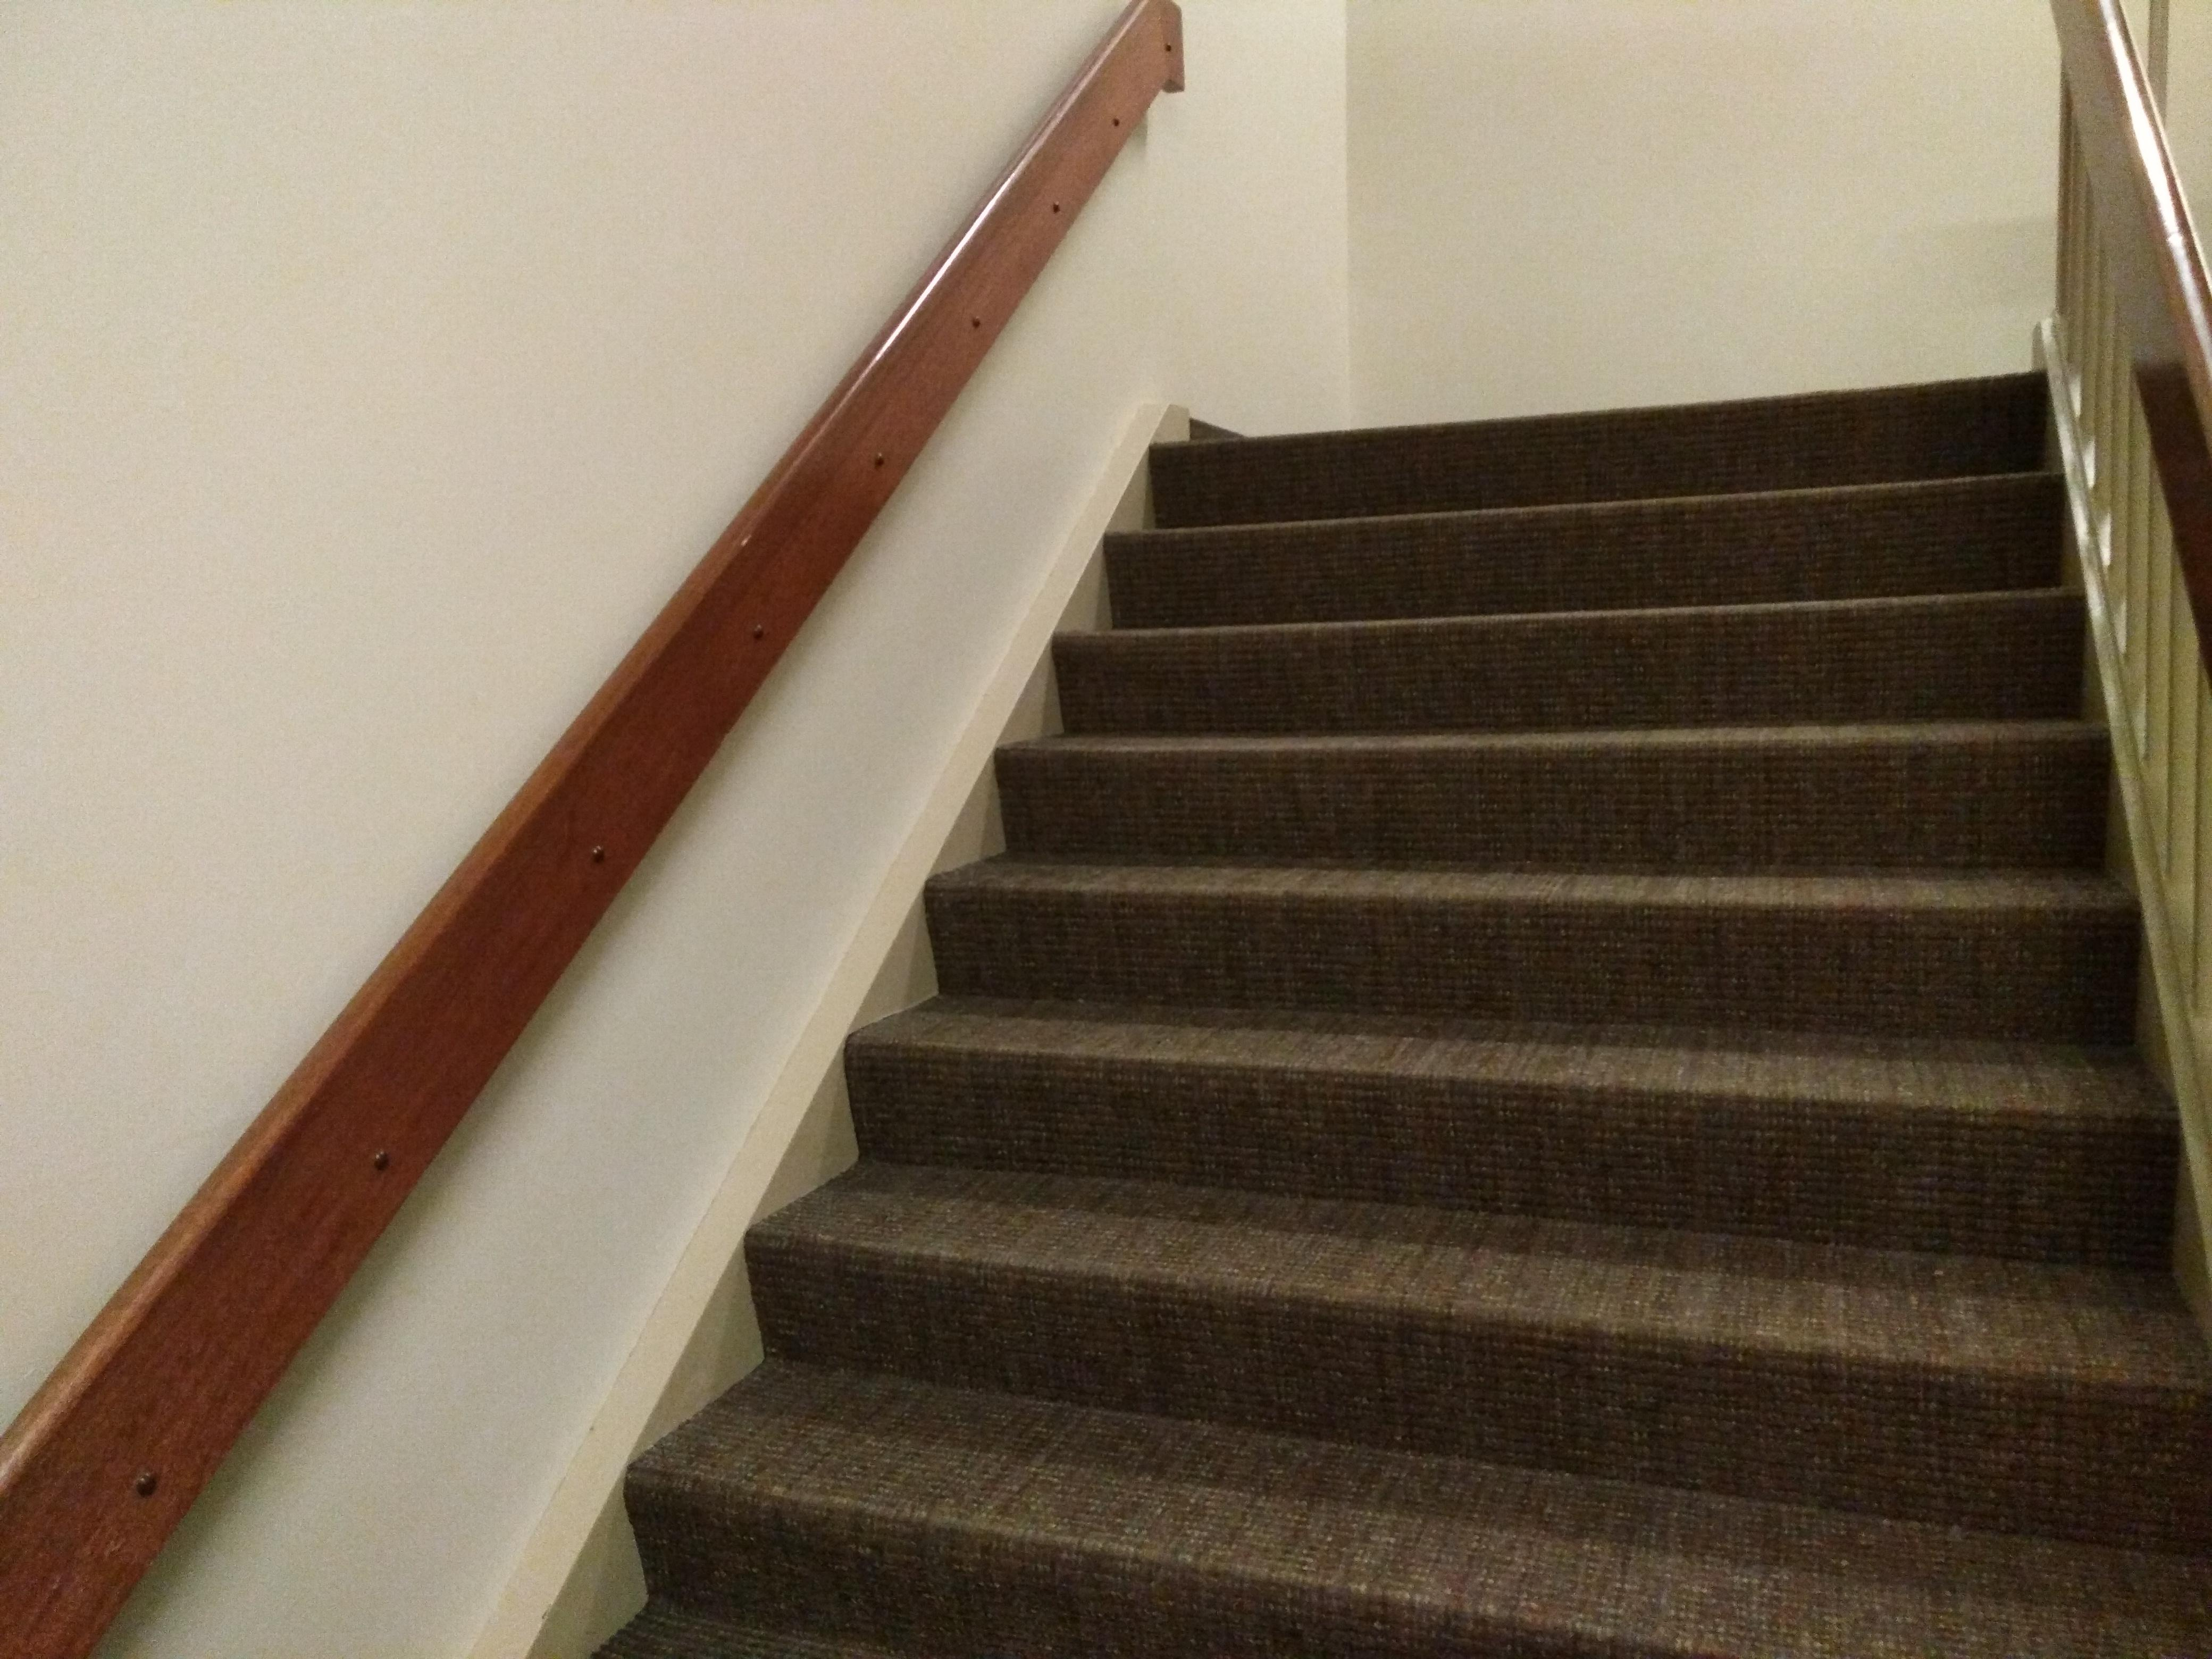stairs_up: (599, 364, 2212, 1659)
